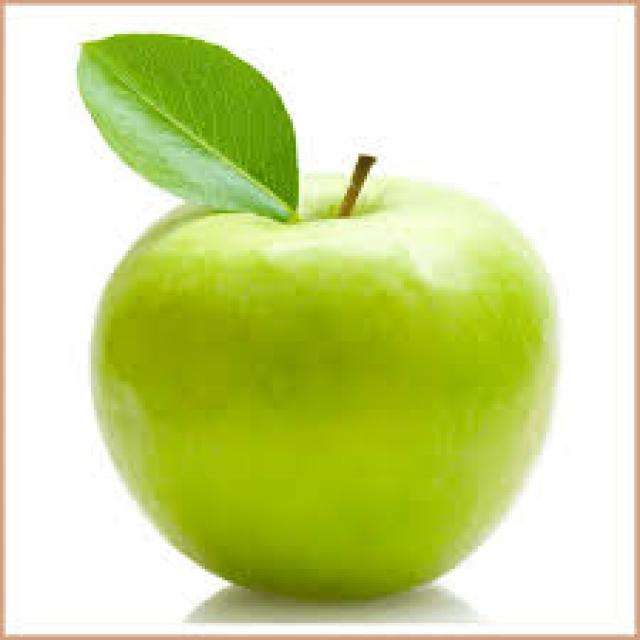50-_ripeness: (72, 145, 576, 623)
